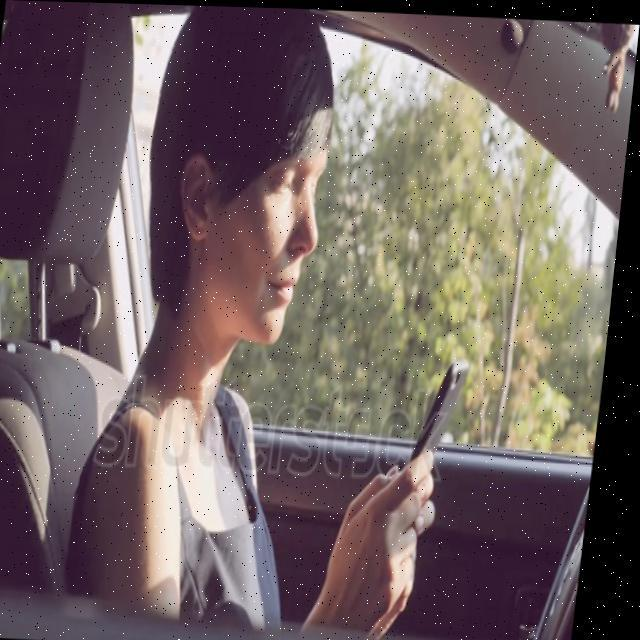PhoneCall: (416, 358, 476, 460)
